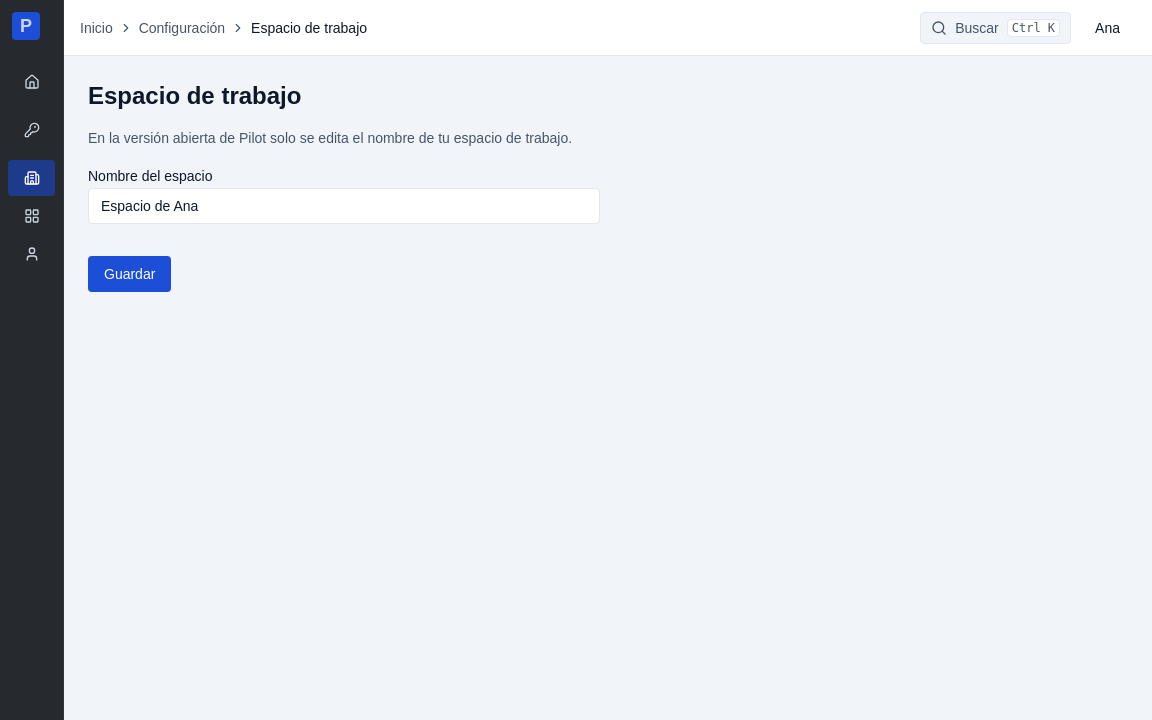
it: pantalla Espacio de trabajo (ADR-032) › un 412 PLT-016 muestra el aviso y "Recargar" pide de nuevo la empresa
Replace the text in the field labelled "Nombre del espacio" with "Mi cambio" at (344, 206), box x1=88 y1=188 x2=600 y2=224
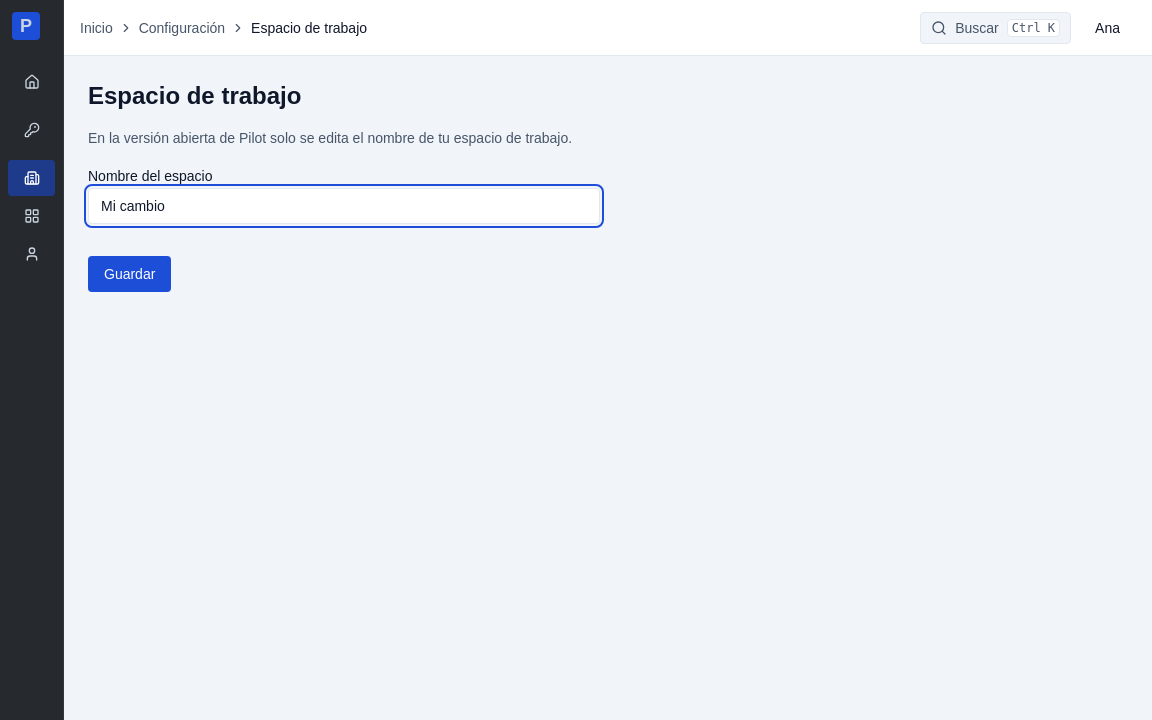
Click the button "Guardar" at (130, 274), box x1=88 y1=256 x2=171 y2=292
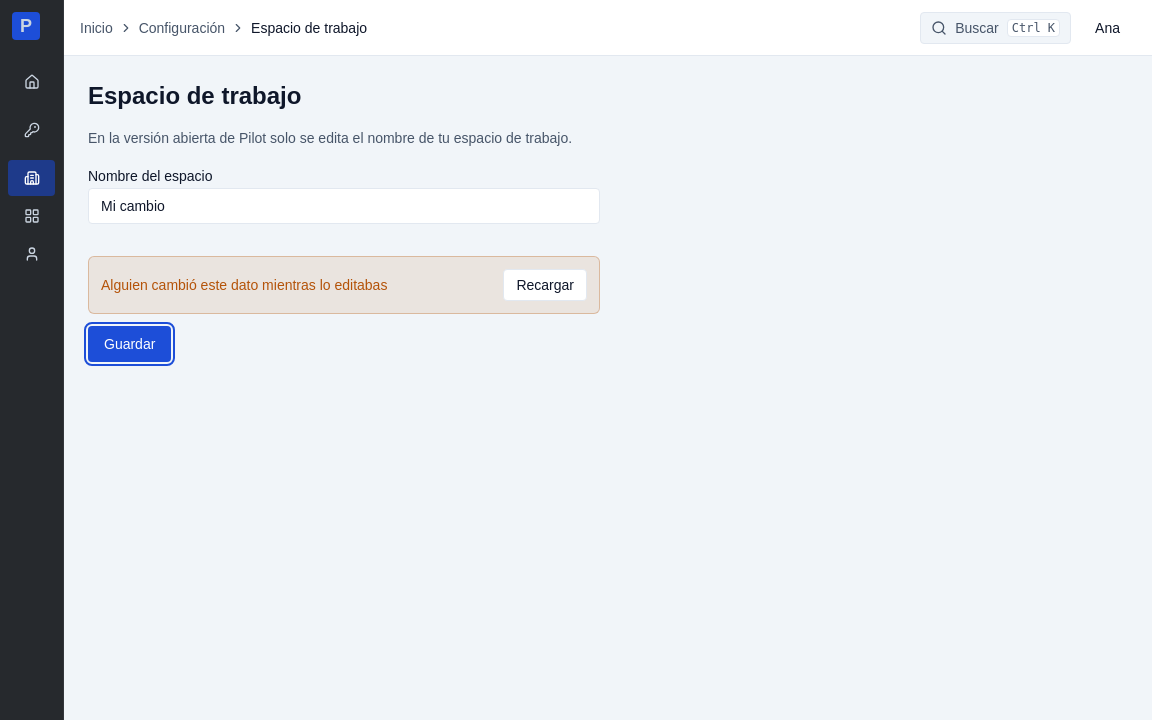
Expected: the text "Alguien cambió este dato mientras lo editabas" is shown, x1=101 y1=275 x2=387 y2=295
Click the button "Recargar" at (545, 285), box x1=503 y1=269 x2=587 y2=301
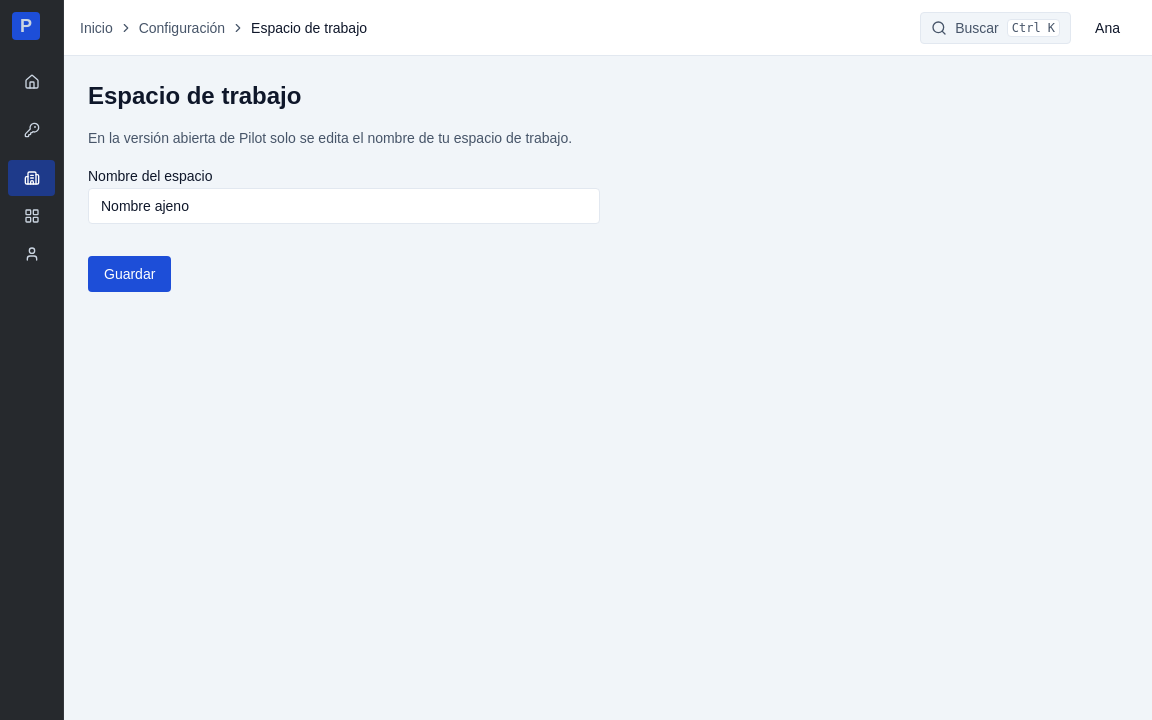
Expected: the field labelled "Nombre del espacio" holds "Nombre ajeno", x1=88 y1=188 x2=600 y2=224
Expected: the text "Alguien cambió este dato mientras lo editabas" is gone
